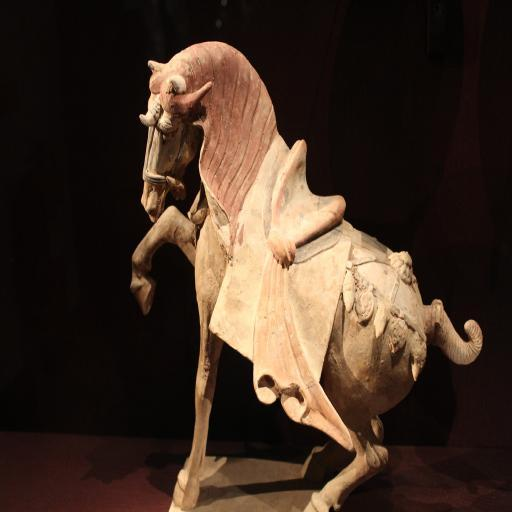horse: (129, 40, 483, 512)
